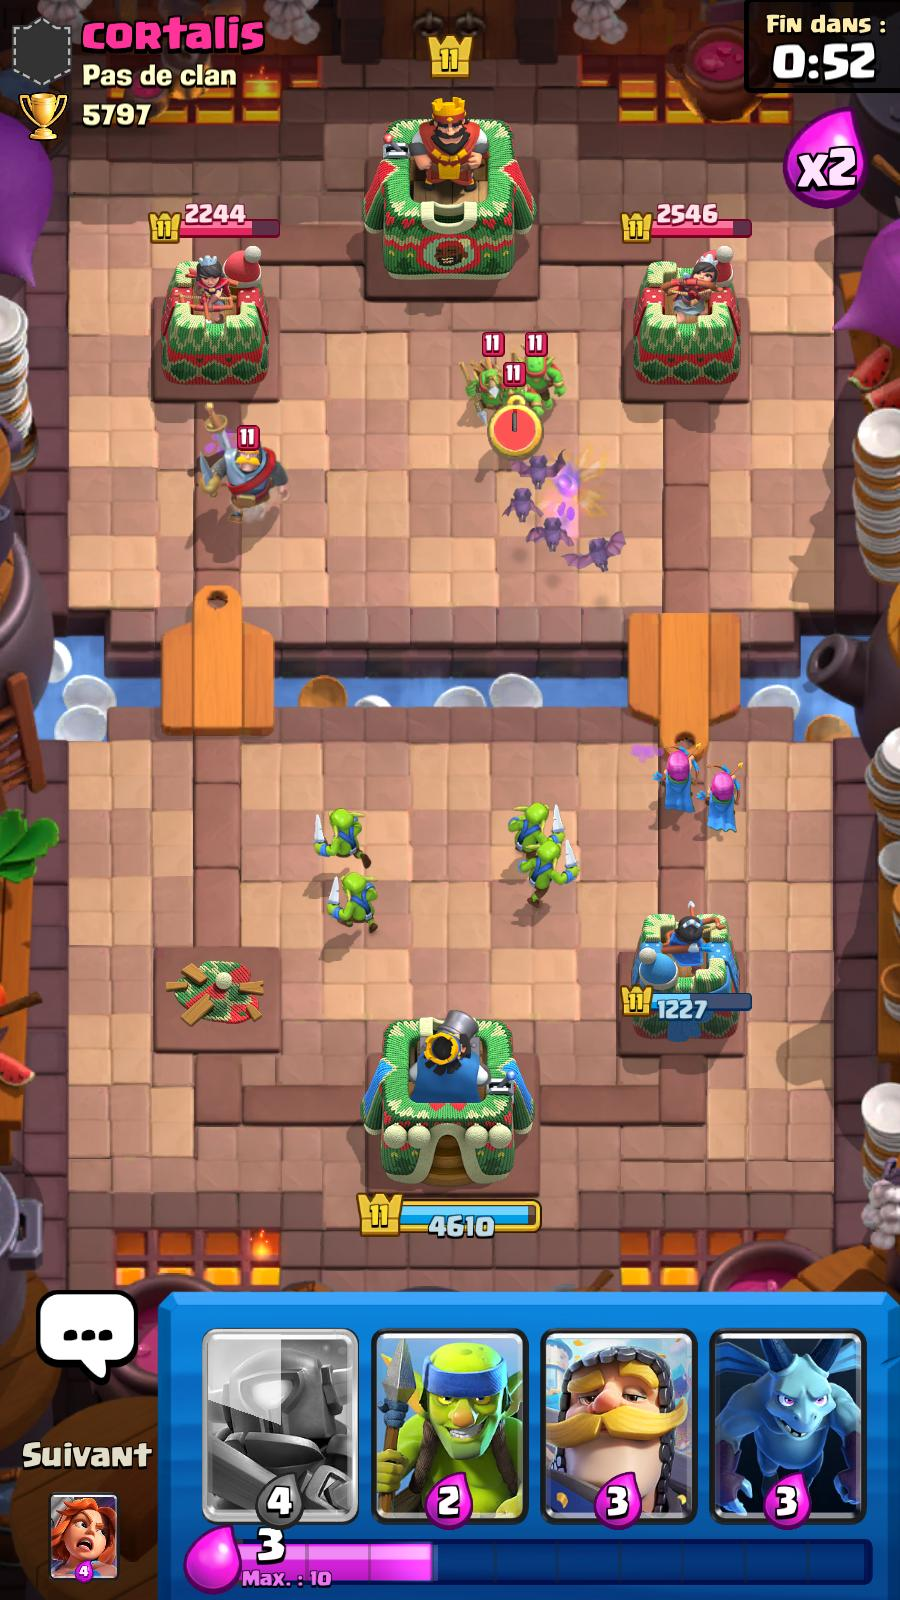archere: (690, 749, 752, 835), (643, 740, 709, 818)
bat: (563, 525, 627, 575), (524, 508, 576, 553), (503, 482, 548, 529), (514, 457, 571, 488)
chevalier: (196, 424, 298, 521)
gobelin: (312, 800, 385, 875), (519, 835, 586, 905), (324, 864, 384, 937), (510, 800, 574, 868)
gobelin_lances: (455, 327, 521, 426), (509, 321, 570, 416), (491, 364, 546, 442)
